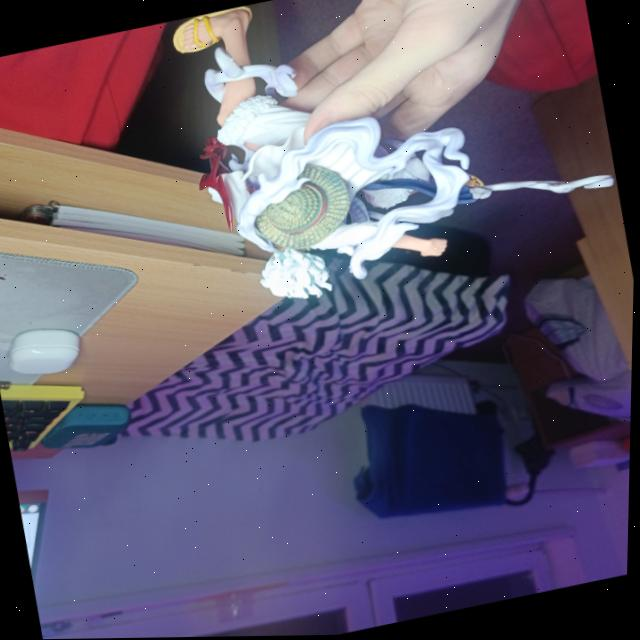luffy: (159, 0, 632, 325)
